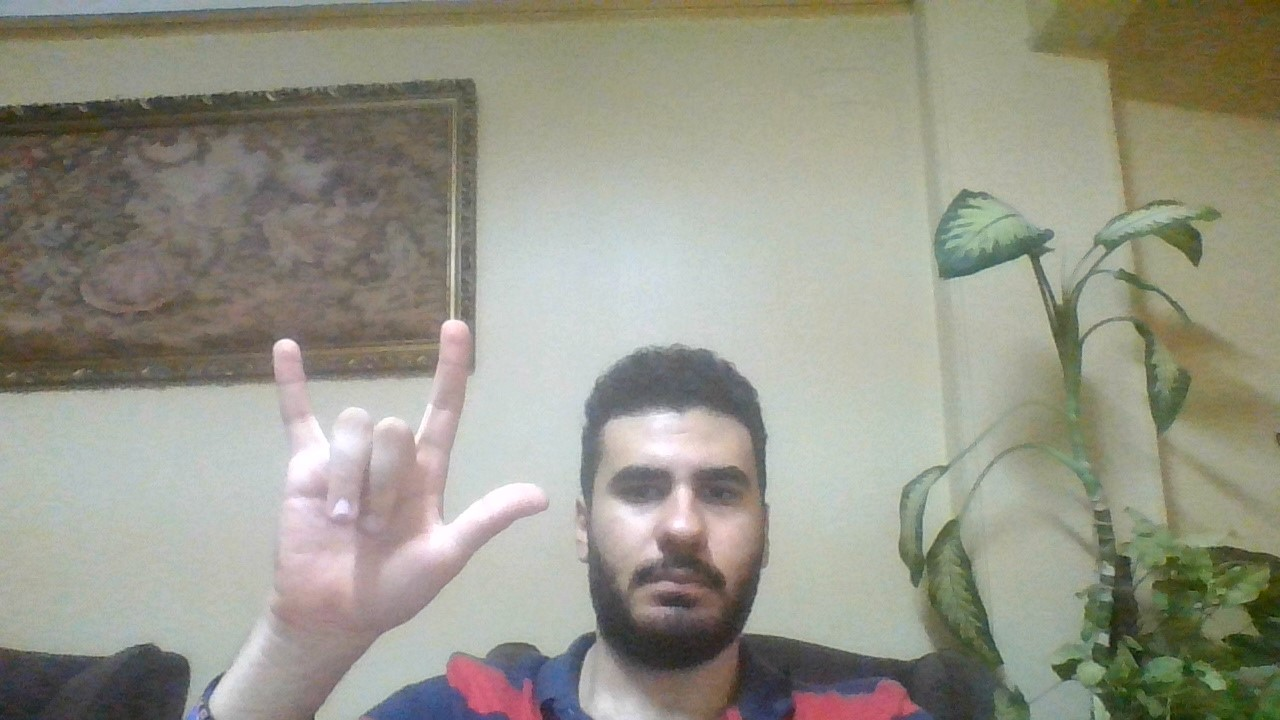love: (247, 310, 557, 631)
